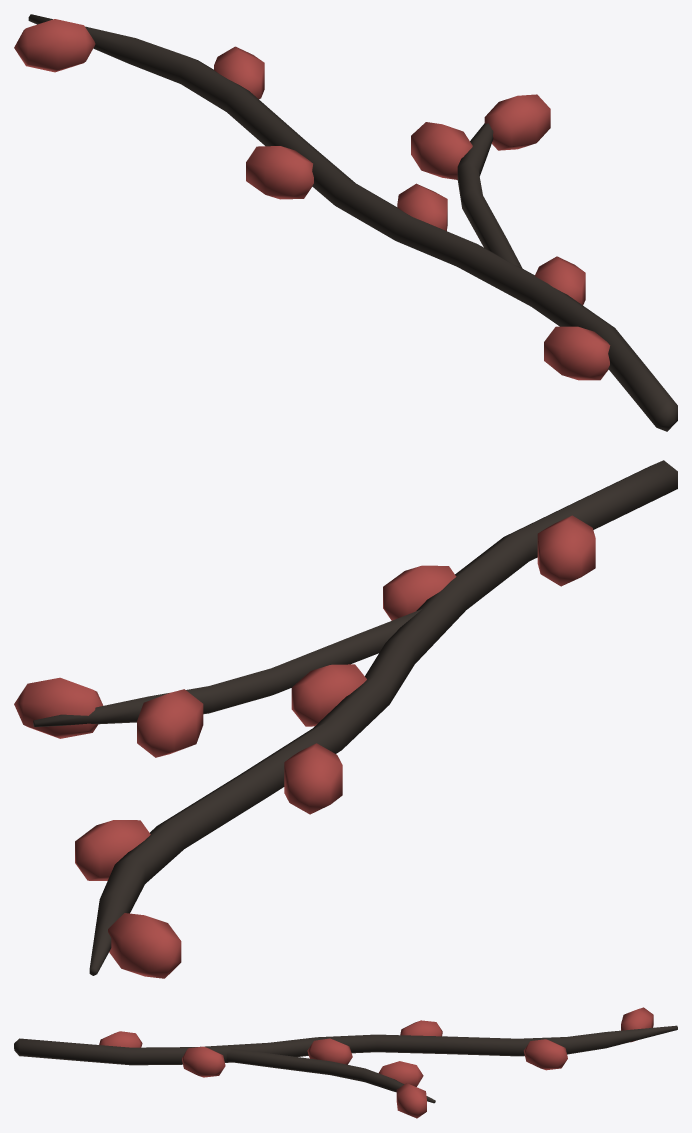
File: Branch_01.fbx
The picture shows the model from 3 angles, top to bottom: view 1: azimuth 30°, elevation 25°; view 2: azimuth 150°, elevation 25°; view 3: azimuth 270°, elevation 25°; orthographic projection. The views are drawn at different scales.
Parts seen in each view (by area): view 1: Branch_01; view 2: Branch_01; view 3: Branch_01.
Boxes of the visible parts, x1,y1,x2,y2 form: Branch_01: (14,14,677,431); Branch_01: (14,460,677,978); Branch_01: (14,1007,677,1118).
Size of the model in its own units: 0.1225 by 0.0187 by 0.3625.
